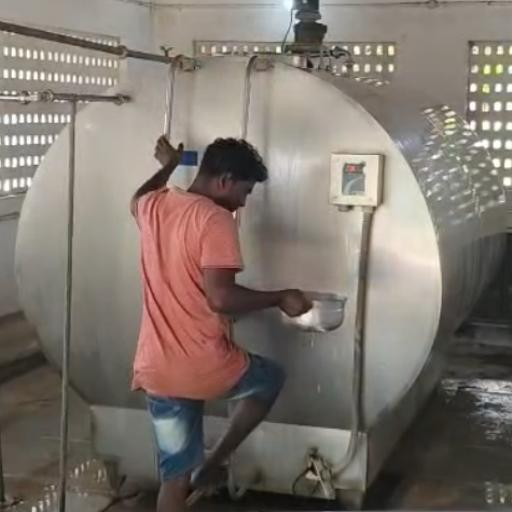silo: (12, 47, 507, 502)
vessel: (280, 290, 349, 334)
